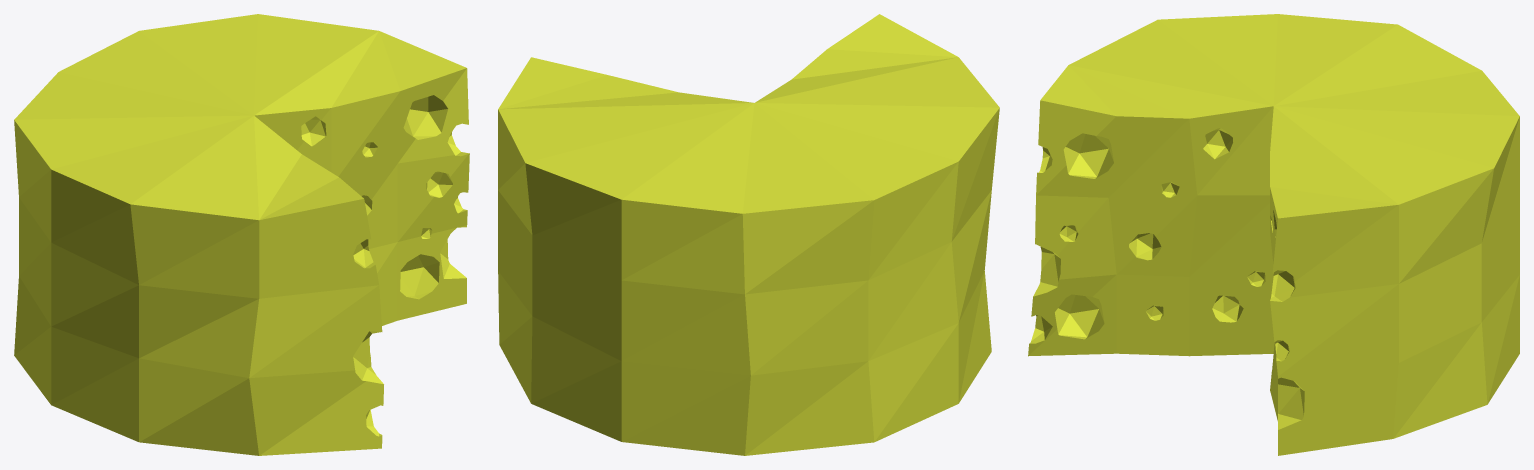
Rendered from cheese_2_s.fbx.
3 views of the same model, side by side, from view 1: azimuth 30°, elevation 25°; view 2: azimuth 150°, elevation 25°; view 3: azimuth 270°, elevation 25° (orthographic). The views are drawn at different scales.
Visible parts, largest first — view 1: Cylinder.001, Cylinder, Cylinder.003, Cylinder.004, Cylinder.002; view 2: Cylinder.001, Cylinder, Cylinder.003, Cylinder.004, Cylinder.002; view 3: Cylinder.003, Cylinder.002, Cylinder.004, Cylinder, Cylinder.001.
Boxes of the visible parts, x1=… form: Cylinder.001: x1=14, y1=86, x2=236, y2=452; Cylinder: x1=46, y1=46, x2=340, y2=455; Cylinder.003: x1=110, y1=22, x2=383, y2=450; Cylinder.004: x1=198, y1=14, x2=402, y2=325; Cylinder.002: x1=314, y1=22, x2=469, y2=320; Cylinder.001: x1=772, y1=69, x2=999, y2=452; Cylinder: x1=664, y1=25, x2=967, y2=455; Cylinder.003: x1=574, y1=14, x2=898, y2=446; Cylinder.004: x1=513, y1=74, x2=693, y2=422; Cylinder.002: x1=498, y1=57, x2=604, y2=376; Cylinder.003: x1=1028, y1=91, x2=1519, y2=378; Cylinder.002: x1=1270, y1=183, x2=1450, y2=455; Cylinder.004: x1=1270, y1=137, x2=1506, y2=420; Cylinder: x1=1047, y1=50, x2=1505, y2=100; Cylinder.001: x1=1090, y1=14, x2=1457, y2=57.
Size of the model in its own units: 236 by 135 by 240.
